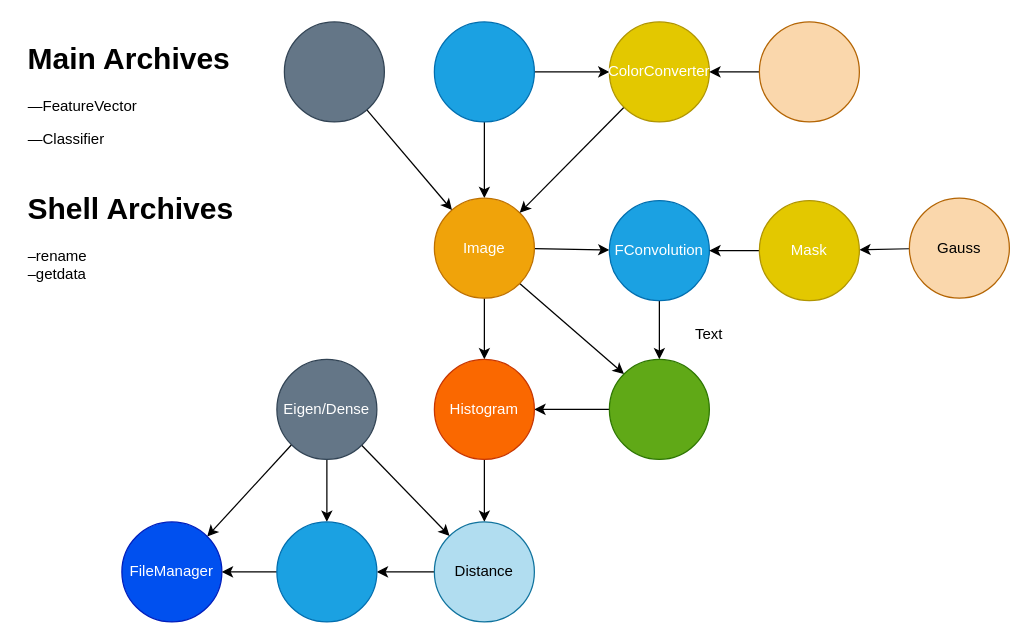
Some shapes in this 1031 by 644 pixel diagram are drawn without their labels. Each missing label, with the centre of its shape:
"Color" goes at [483,71].
"Database" goes at [326,571].
"LBP" goes at [658,408].
"LodePNG" goes at [333,71].
"XYZ" goes at [808,71].
